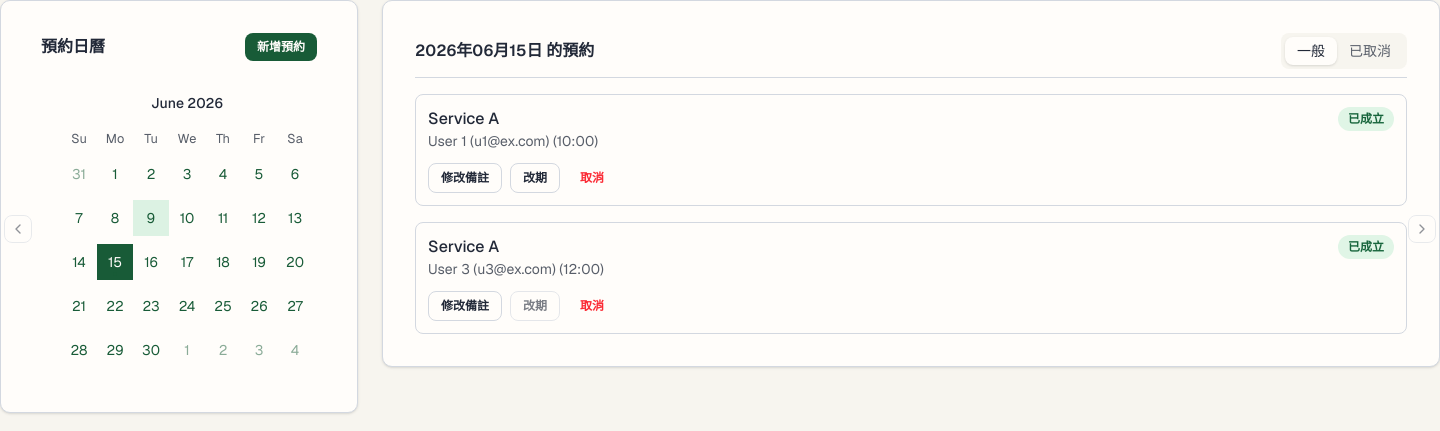
Scenario: BookingsCalendar › 切換至「已取消」分頁時應顯示已取消預約
Click the button "已取消": click(1370, 51) [1337,37,1403,65]
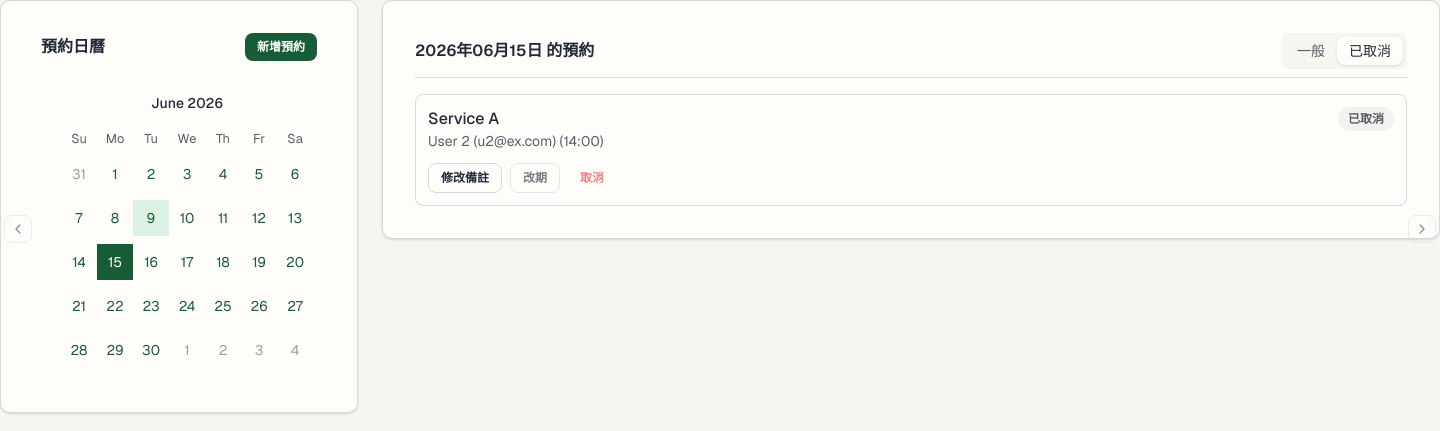
Expected: the text "User 2 (u2@ex.com) (14:00)" is shown, [428,131,604,151]
Expected: the text "User 1" is gone
